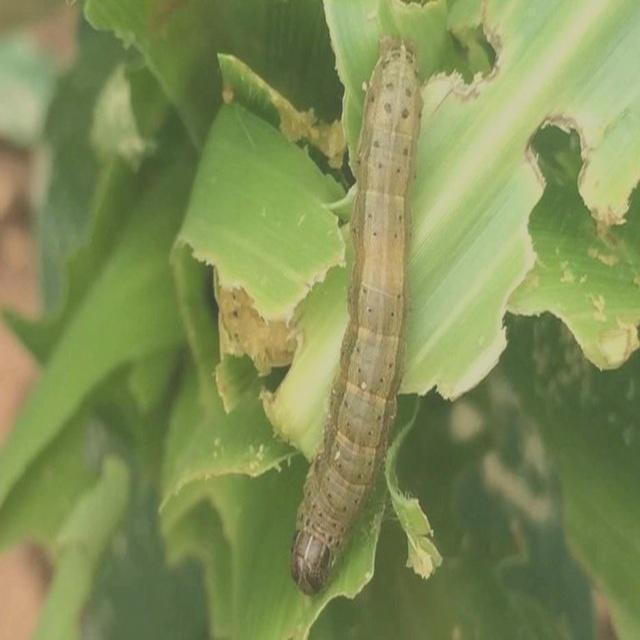gusano_cogollero: (286, 33, 424, 603)
